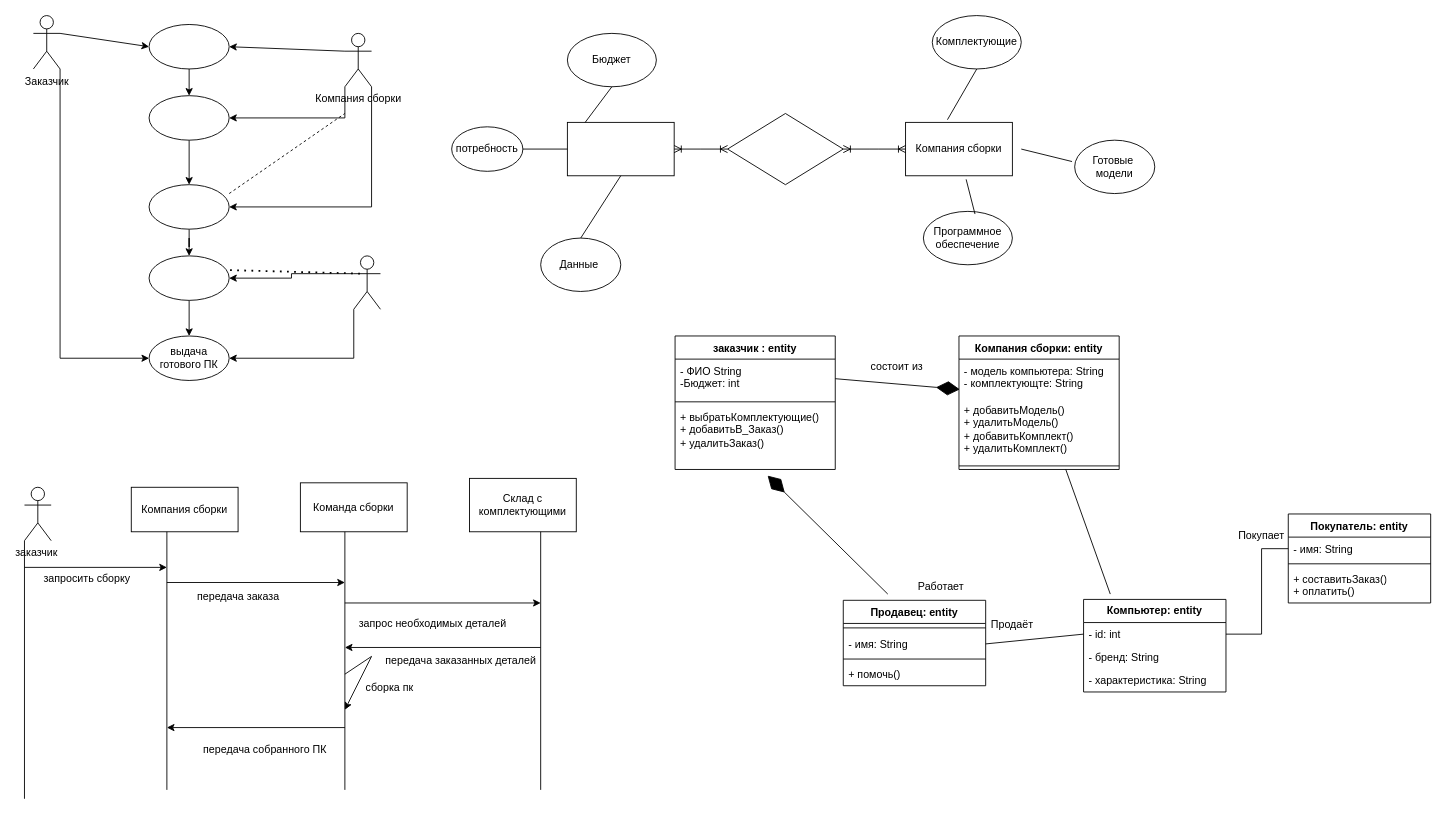
Some shapes in this 1446 by 815 pixel diagram are drawn without their labels. The shapes that lost their labels are listed below. From the top down, each one's centre as x and y in pixels, then its label:
(x=188, y=46): оформление заказа
(x=188, y=117): начало сборки
(x=620, y=148): Клиент
(x=785, y=149): Изучает
(x=188, y=206): закупка недостающих комплектующих
(x=188, y=277): установка нужного ПО
(x=366, y=282): Программист
